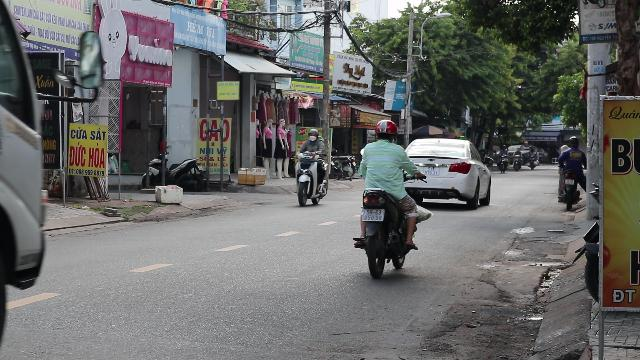helmet: (373, 119, 397, 143), (308, 127, 318, 141)
licenseplate: (362, 208, 383, 220)
motorcyclist: (1, 10, 52, 360), (350, 118, 430, 276), (292, 128, 330, 206)
